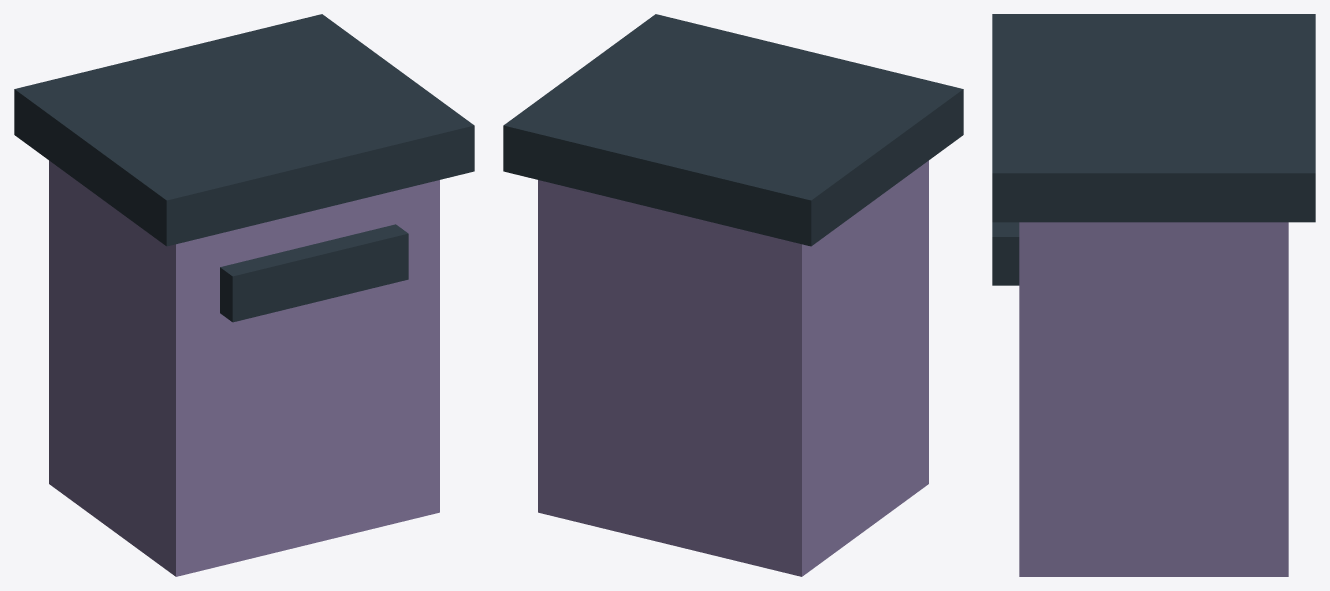
File: social-14.glb
The picture shows the model from 3 angles, left to right: view 1: azimuth 30°, elevation 25°; view 2: azimuth 150°, elevation 25°; view 3: azimuth 270°, elevation 25°; orthographic projection. The views are drawn at different scales.
Visible parts, largest first — view 1: Message mailbox; view 2: Message mailbox; view 3: Message mailbox.
Boxes of the visible parts, bbox=[...] form: Message mailbox: bbox=[14, 14, 474, 576]; Message mailbox: bbox=[503, 14, 963, 576]; Message mailbox: bbox=[992, 14, 1315, 576].
Size of the model in its own units: 1.12 by 1.36 by 0.96.
